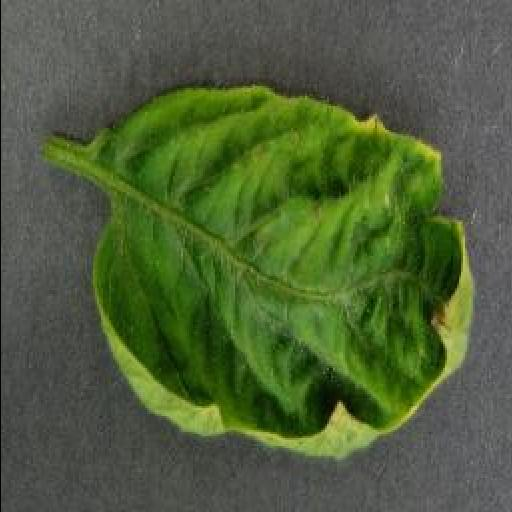disease_tomato: (88, 88, 476, 458)
